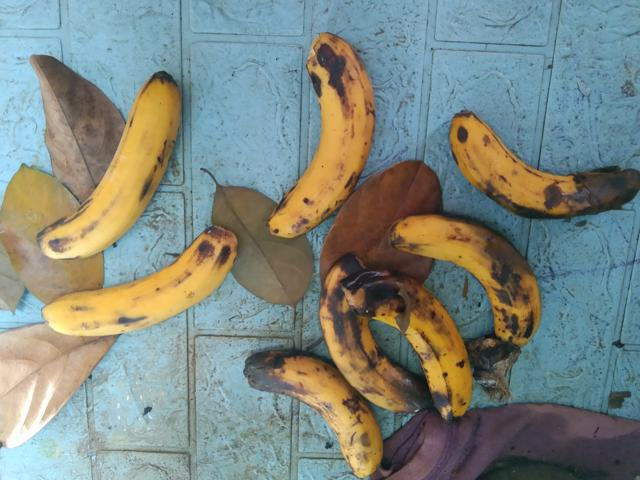overripe: (265, 23, 378, 255)
ripe: (13, 68, 188, 276), (30, 211, 241, 346)
rotten: (434, 94, 639, 237), (367, 194, 563, 335), (222, 342, 391, 473), (344, 276, 480, 419)
